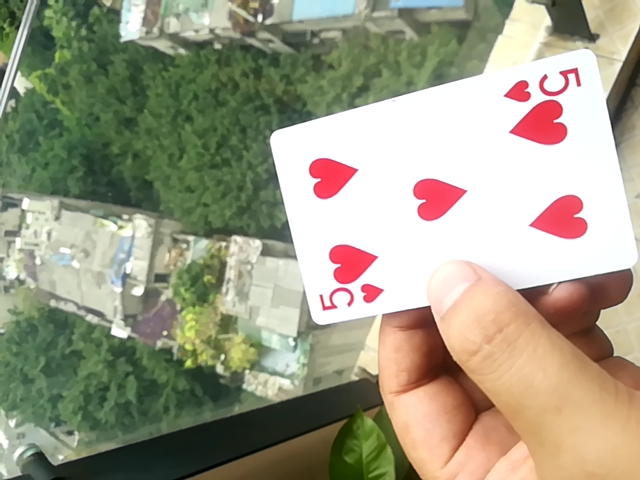hx 5: (263, 52, 637, 329)
